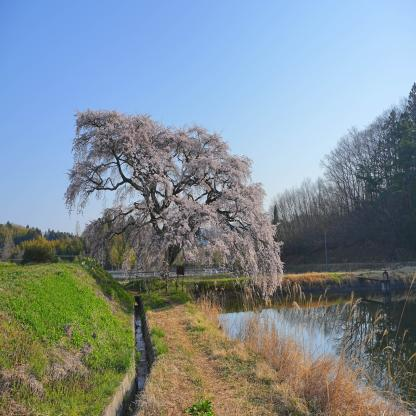EdohiganSakura: (62, 109, 285, 304)
